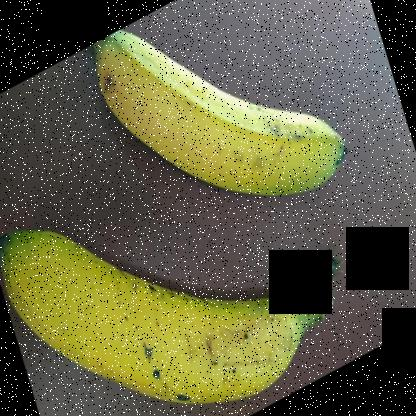freshripe: (78, 23, 349, 210)
ripe: (0, 199, 323, 404)
